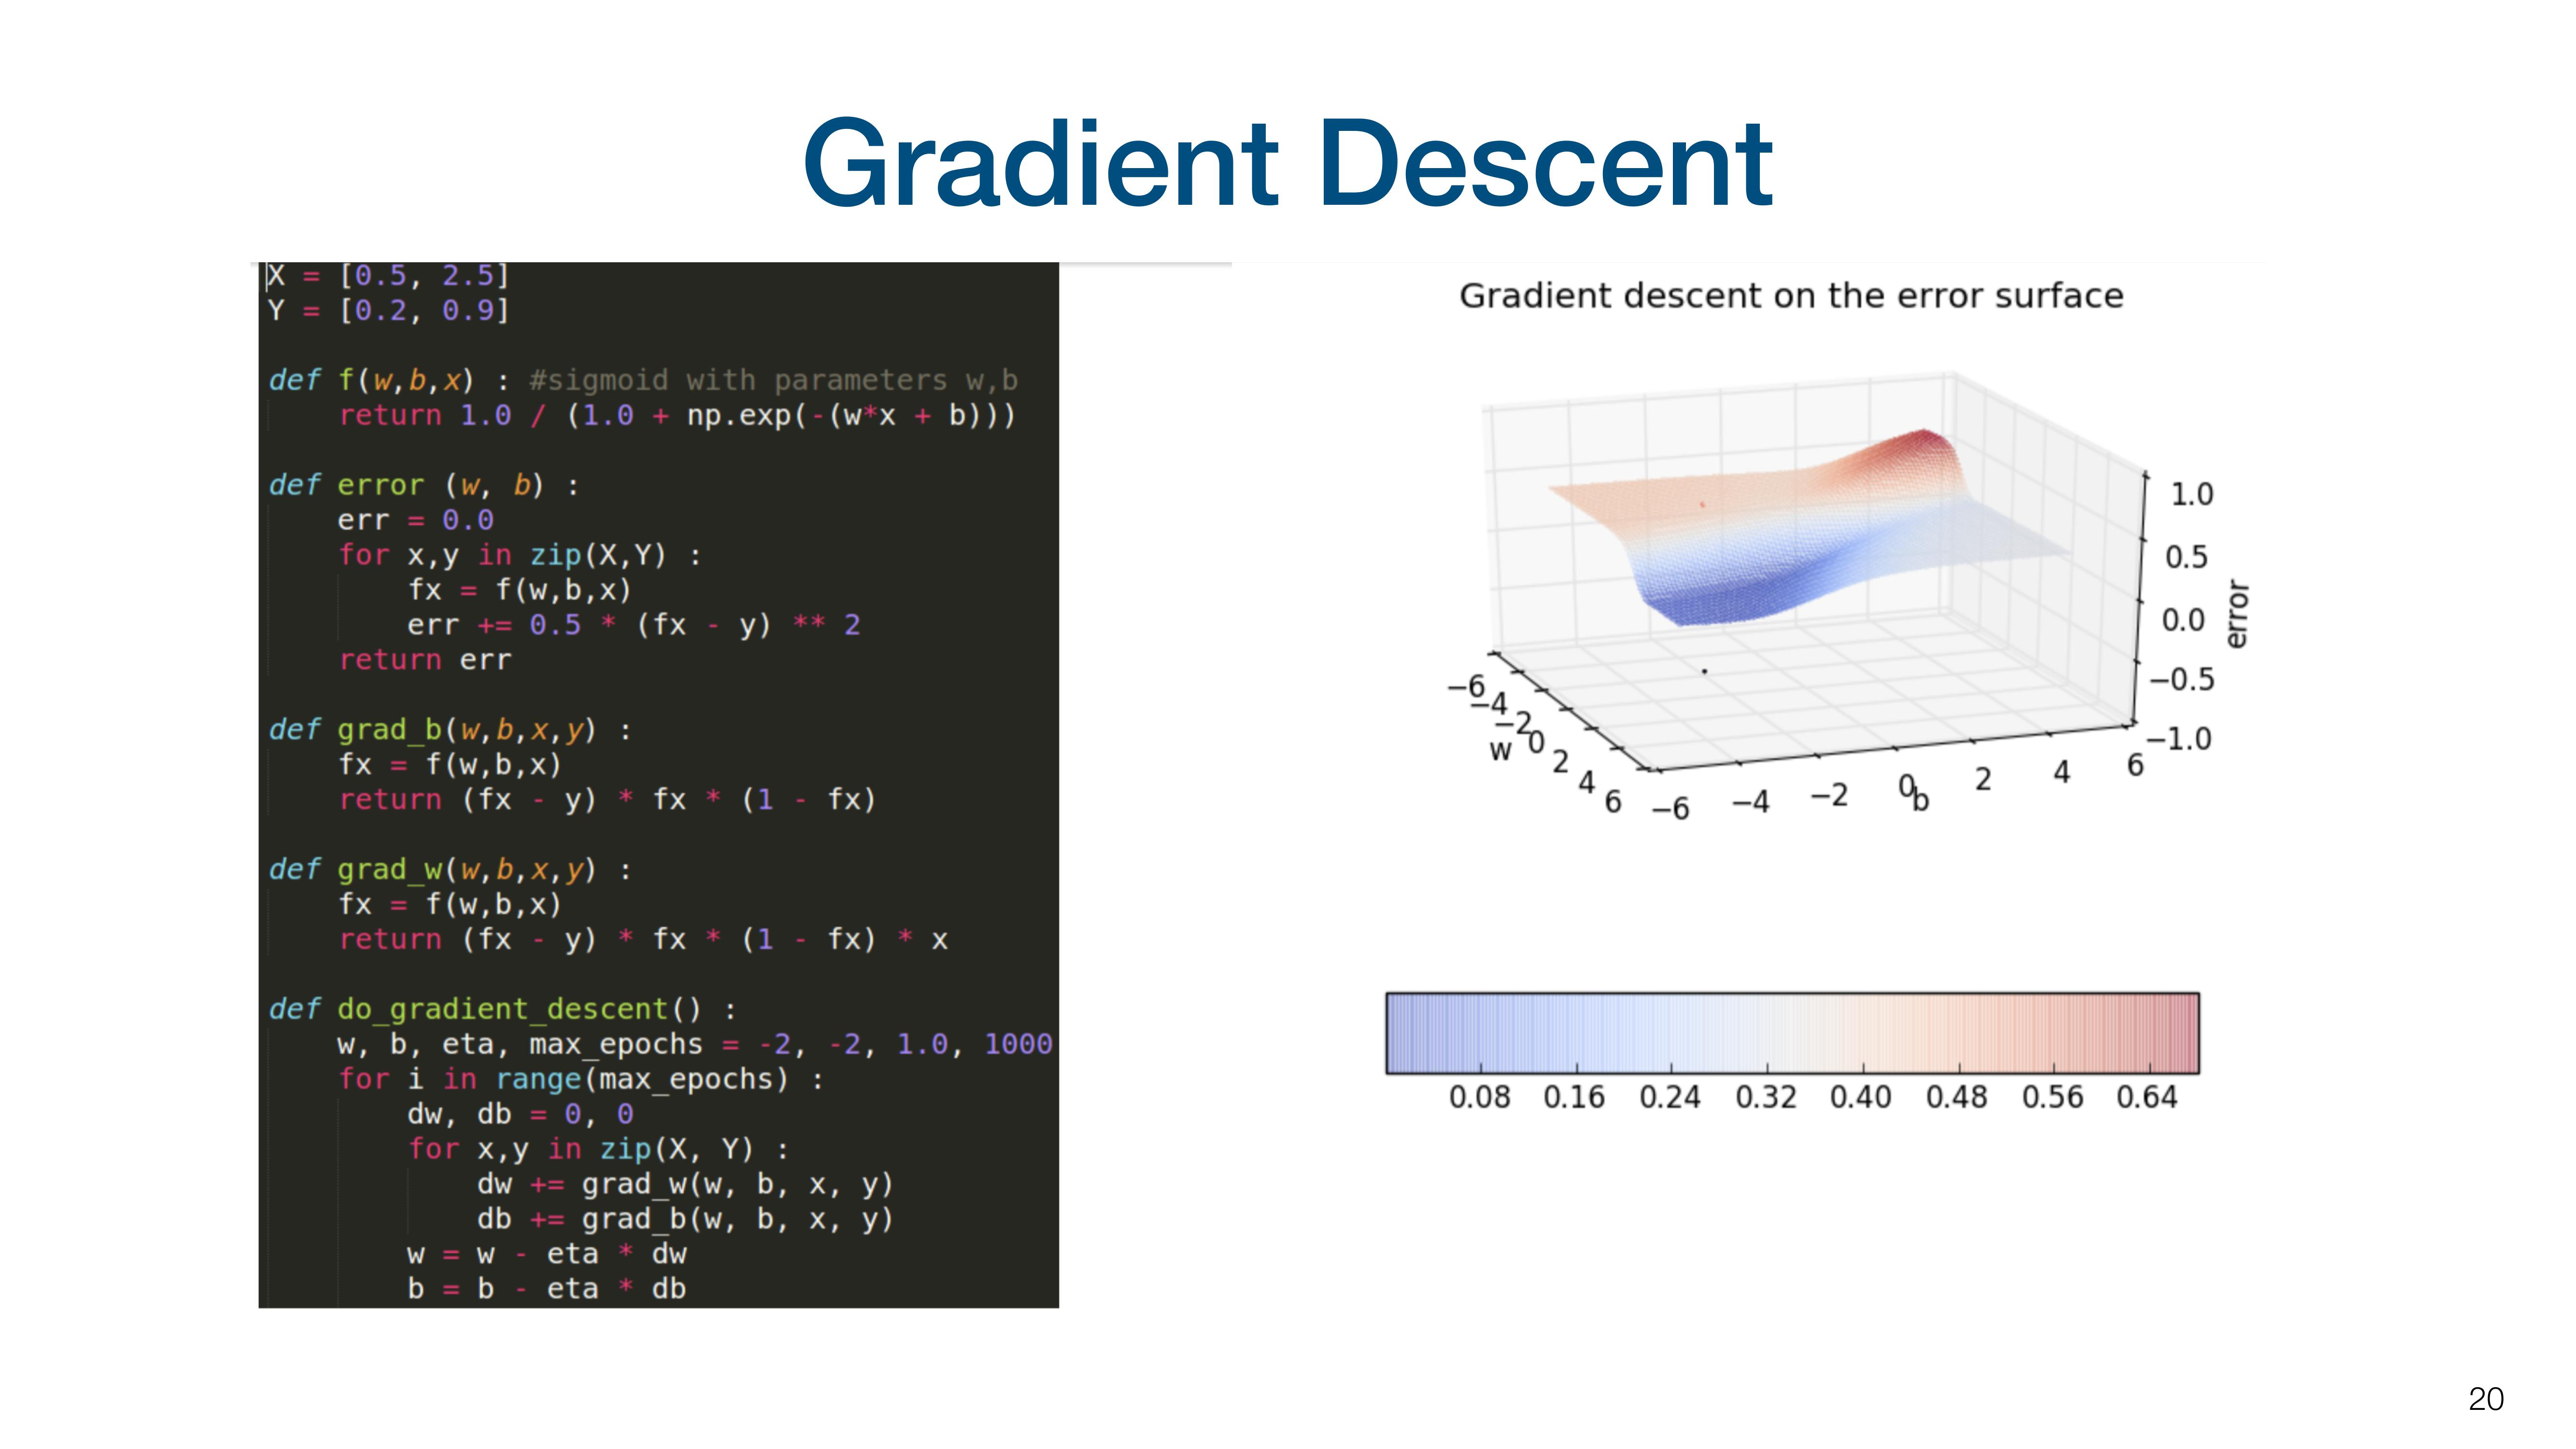Title: (798, 76, 1789, 257)
